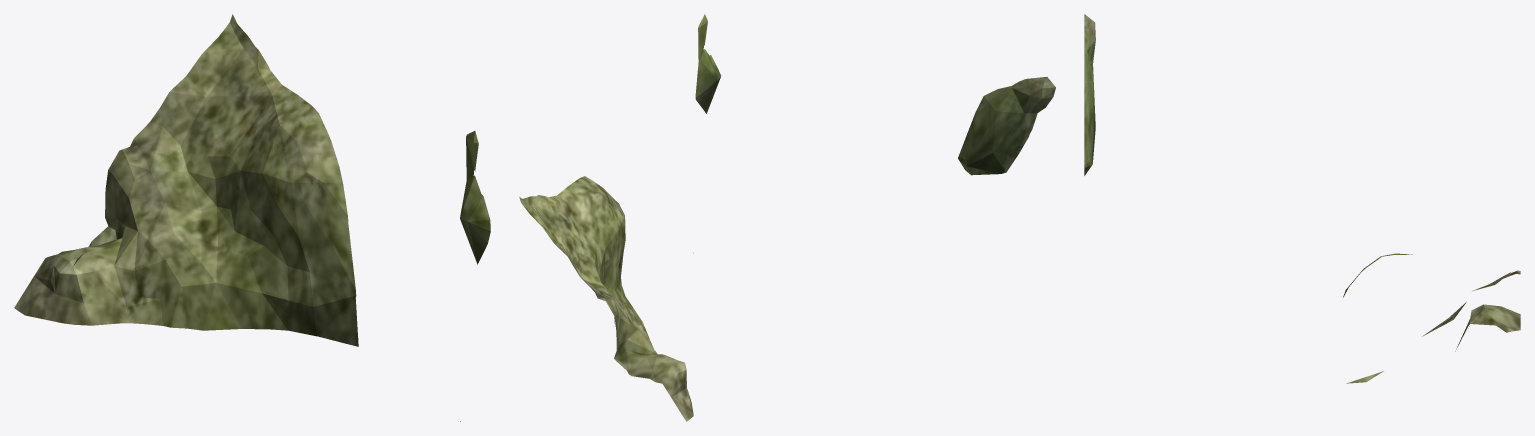
3 views of the same model, side by side, from view 1: azimuth 30°, elevation 25°; view 2: azimuth 150°, elevation 25°; view 3: azimuth 270°, elevation 25° (orthographic). The views are drawn at different scales.
Size of the model in its own units: 2.71 by 1.82 by 2.95.
1 material, 1 textured.
